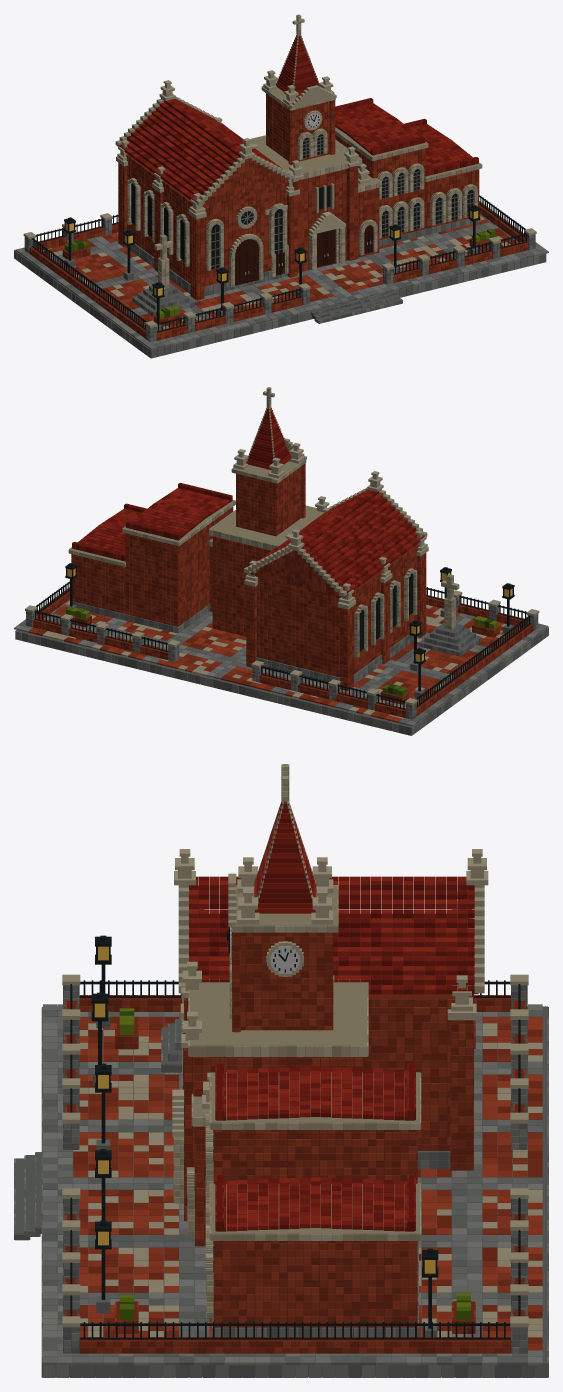
The model's file is SM_Mapa_069.fbx.
3 renders of one model, top to bottom at view 1: azimuth 30°, elevation 25°; view 2: azimuth 150°, elevation 25°; view 3: azimuth 270°, elevation 25°, orthographic. The views are drawn at different scales.
Visible parts, largest first — view 1: SM_Mapa_069; view 2: SM_Mapa_069; view 3: SM_Mapa_069.
Boxes of the visible parts, x1,y1,x2,y2 form: SM_Mapa_069: (14,14,548,358); SM_Mapa_069: (14,387,548,735); SM_Mapa_069: (14,764,548,1377).
Size of the model in its own units: 45 by 28.33 by 26.22.
